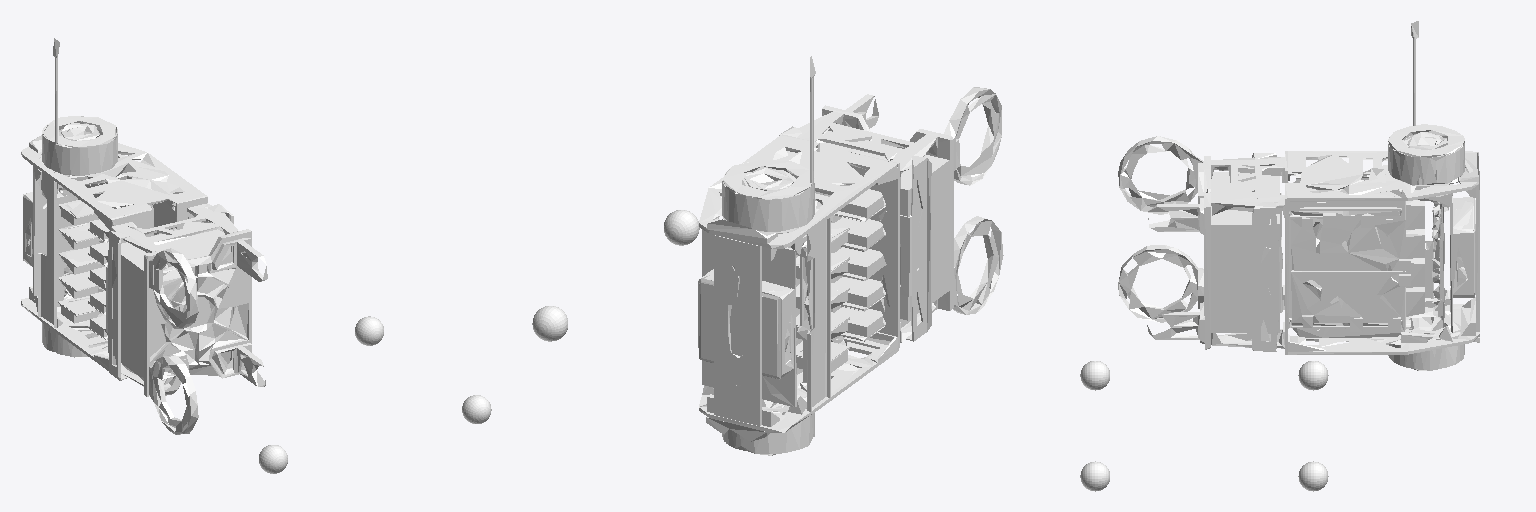
URDF robot description (Lite3):
<?xml version="1.0" encoding="utf-8"?>
<!-- This URDF was automatically created by SolidWorks to URDF Exporter! Originally created by [author] ([email redacted]) 
     Commit Version: 1.6.0-4-g7f85cfe  Build Version: 1.6.7995.38578
     For more information, please see http://wiki.ros.org/sw_urdf_exporter -->
<robot name="Lite3">
  <link name="TORSO">
    <inertial>
      <origin xyz="0 0 0" rpy="0 0 0" />
      <mass value="5.6056" />
      <inertia ixx="0.02456" ixy="0" ixz="0" iyy="0.05518" iyz="0" izz="0.07016" />
    </inertial>
    <visual>
      <origin xyz="0 0 0" rpy="-1.57 0 0" />
      <geometry>
        <mesh filename="../meshes/torso.STL" />
      </geometry>
      <material name="">
        <color rgba="1 1 1 1" />
      </material>
    </visual>
    <collision>
      <origin xyz="0 0 0" rpy="0 0 0" />
      <geometry>
        <mesh filename="../meshes/torso.STL" />
      </geometry>
    </collision>
  </link>

  <!--!!!!!!!!!!!! Front Left Leg !!!!!!!!!!!!!!!!!!!!!!!!!!!!!!!!!!!!-->

  <link name="FL_HIP">
    <inertial>
      <origin xyz="-0.00601 -0.0066532 0.00034295" rpy="0 0 0" />
      <mass value="0.550" />
      <inertia ixx="0.0003949" ixy="0" ixz="0" iyy="0.0004028" iyz="0" izz="0.0004472" />
    </inertial>
    <visual>
      <origin xyz="0 0 0" rpy="-1.57 0 0" />
      <geometry>
        <mesh filename="../meshes/fl_hip.STL" />
      </geometry>
      <material name="">
        <color rgba="1 1 1 1" />
      </material>
    </visual>
    <!-- <collision>
      <origin xyz="0 0 0" rpy="0 0 0" />
      <geometry>
        <mesh filename="../meshes/fl_hip.STL" />
      </geometry>
    </collision> -->
  </link>
  <joint name="FL_HipX_joint"  type="revolute">
    <origin xyz="0.1745 0.062 0" rpy="0 0 0" />
    <parent link="TORSO" />
    <child link="FL_HIP" />
    <axis xyz="-1 0 0" />
    <limit lower="-0.523" upper="0.523" effort="30" velocity="20" />
  </joint>
  <link name="FL_THIGH">
    <inertial>
      <origin xyz="-0.0052817 -0.014632 -0.042672" rpy="0 0 0" />
      <mass value="0.86" />
      <inertia ixx="0.005736" ixy="0" ixz="0" iyy="0.004960" iyz="0" izz="0.001436" />
    </inertial>
    <visual>
      <origin xyz="0 0 0" rpy="-1.57 0 0" />
      <geometry>
        <mesh filename="../meshes/fl_thigh.STL" />
      </geometry>
      <material name="">
        <color rgba="1 1 1 1" />
      </material>
    </visual>
    <collision>
      <!-- <origin xyz="0 0 0" rpy="0 0 0" /> -->
      <origin xyz="0 0 -0.08"/>
      <geometry>
        <!-- <mesh filename="../meshes/fl_thigh.STL" /> -->
        <box size="0.02 0.02 0.16"/>
      </geometry>
    </collision>
  </link>
  <joint name="FL_HipY_joint" type="revolute">
    <origin xyz="0 0.09735 0" rpy="0 0 0" />
    <parent link="FL_HIP" />
    <child link="FL_THIGH" />
    <axis xyz="0 -1 0" />
    <limit lower="-2.67" upper="0.314" effort="30" velocity="20" />
  </joint>
  <link name="FL_SHANK">
    <inertial>
      <origin xyz="0.0064794 -1.4535E-06 -0.12157" rpy="0 0 0" />
      <mass value="0.153" />
      <inertia ixx="0.00089039" ixy="0"  ixz="0"  iyy="0.00090672" iyz="0" izz="3.1266E-05" />
    </inertial>
    <visual>
      <origin xyz="0 0 0" rpy="-1.57 0 0" />
      <geometry>
        <mesh filename="../meshes/fl_shank_collision.STL" />
      </geometry>
      <material name="">
        <color rgba="1 1 1 1" />
      </material>
    </visual>
    <collision>
      <!-- <origin xyz="0 0 0" rpy="0 0 0" /> -->
      <origin xyz="0 0 -0.09"/>
      <geometry>
        <!-- <mesh filename="../meshes/fl_shank_collision.STL" /> -->
        <box size="0.02 0.02 0.18"/>
      </geometry>
    </collision>
  </link>
  <joint name="FL_Knee_joint" type="revolute">
    <origin xyz="0 0 -0.20" rpy="0 0 0" />
    <parent link="FL_THIGH" />
    <child link="FL_SHANK" />
    <axis xyz="0 -1 0" />
    <limit lower="0.524" upper="2.792" effort="30" velocity="20" />
  </joint>

   <link name="FL_FOOT">
    <contact>
      <friction_anchor/>
      <stiffness value="30000.0"/>
      <damping value="1000.0"/>
      <spinning_friction value="0.3"/>
      <lateral_friction value="1.0"/>
    </contact>
    <collision>
      <origin rpy="1.57079632679 0 0" xyz="0 0 0"/>
      <geometry>
        <sphere radius="0.022" />
      </geometry>
    </collision>
    <visual>
      <origin xyz="0 0 0" rpy="-1.57 0 0" />
      <geometry>
        <sphere radius="0.022" />
      </geometry>
      <material name="">
        <color rgba="1 1 1 1" />
      </material>
    </visual>
    <inertial>
      <mass value="0.02"/>
      <inertia ixx="0" ixy="0" ixz="0" iyy="0" iyz="0" izz="0"/>
    </inertial>
  </link>

  <joint name="FL_Ankle" type="fixed" dont_collapse="true">
    <parent link="FL_SHANK"/>
    <child link="FL_FOOT"/>
    <origin xyz="0 0 -0.21012"/>
     
  </joint>

  <!--!!!!!!!!!!!! Front Right Leg !!!!!!!!!!!!!!!!!!!!!!!!!!!!!!!!!!!!-->
  <link name="FR_HIP">
    <inertial>
      <origin xyz="-0.010579 0.011358 0.00048546" rpy="0 0 0" />
      <mass value="0.550" />
      <inertia ixx="0.0004472" ixy="0" ixz="0" iyy="0.0004028" iyz="0" izz="0.0003949" />
    </inertial>
    <visual>
      <origin xyz="0 0 0" rpy="-1.57 0 0" />
      <geometry>
        <mesh filename="../meshes/fr_hip.STL" />
      </geometry>
      <material name="">
        <color rgba="1 1 1 1" />
      </material>
    </visual>
    <!-- <collision>
      <origin xyz="0 0 0" rpy="0 0 0" />
      <geometry>
        <mesh filename="../meshes/fr_hip.STL" />
      </geometry>
    </collision> -->
  </link>
  <joint name="FR_HipX_joint"
    type="revolute">
    <origin xyz="0.1745 -0.062 0" rpy="0 0 0" />
    <parent link="TORSO" />
    <child link="FR_HIP" />
    <axis xyz="-1 0 0" />
    <limit lower="-0.523" upper="0.523" effort="30" velocity="20" />
  </joint>
  <link name="FR_THIGH">
    <inertial>
      <origin xyz="-0.0039245 0.025256 -0.025146" rpy="0 0 0" />
      <mass value="0.86"/>
      <!-- inertia ixx="0.00433" ixy="0.00001" ixz="0.00034" iyy="0.00403"  iyz="-0.0000186" izz="0.00143" -->
      <inertia ixx="0.005736" ixy="0" ixz="0" iyy="0.004960" iyz="0" izz="0.001436" />
    </inertial>
    <visual>
      <origin xyz="0 0 0" rpy="-1.57 0 0" />
      <geometry>
        <mesh filename="../meshes/fr_thigh.STL" />
      </geometry>
      <material name="">
        <color rgba="1 1 1 1" />
      </material>
    </visual>
    <collision>
      <!-- <origin xyz="0 0 0" rpy="0 0 0" /> -->
      <origin xyz="0 0 -0.08"/>
      <geometry>
        <!-- <mesh filename="../meshes/fr_thigh.STL" /> -->
        <box size="0.02 0.02 0.16"/>
      </geometry>
    </collision>
  </link>
  <joint name="FR_HipY_joint" type="revolute">
    <origin xyz="0 -0.09735 0" rpy="0 0 0" />
    <parent link="FR_HIP" />
    <child link="FR_THIGH" />
    <axis xyz="0 -1 0" />
    <limit lower="-2.67" upper="0.314" effort="30" velocity="20" />
  </joint>
  <link name="FR_SHANK">
    <inertial>
      <origin xyz="0.0064794 -1.4552E-06 -0.12157" rpy="0 0 0" />
      <mass value="0.153" />
      <inertia ixx="0.00089039" ixy="0"  ixz="0"  iyy="0.00090672" iyz="0" izz="3.1266E-05" />
    </inertial>
    <visual>
      <origin xyz="0 0 0" rpy="-1.57 0 0" />
      <geometry>
        <mesh filename="../meshes/fr_shank_collision.STL" />
      </geometry>
      <material name="">
        <color rgba="1 1 1 1" />
      </material>
    </visual>
    <collision>
      <!-- <origin xyz="0 0 0" rpy="0 0 0" /> -->
      <origin xyz="0 0 -0.09"/>
      <geometry>
        <!-- <mesh filename="../meshes/fr_shank_collision.STL" /> -->
        <box size="0.02 0.02 0.18"/>
      </geometry>
    </collision>
  </link>
  <joint name="FR_Knee_joint" type="revolute">
    <origin xyz="0 0 -0.20" rpy="0 0 0" />
    <parent link="FR_THIGH" />
    <child link="FR_SHANK" />
    <axis xyz="0 -1 0" />
    <limit lower="0.524" upper="2.792" effort="30" velocity="20" />
  </joint>

    <link name="FR_FOOT">
    <contact>
      <friction_anchor/>
      <stiffness value="30000.0"/>
      <damping value="1000.0"/>
      <spinning_friction value="0.3"/>
      <lateral_friction value="1.0"/>
    </contact>
    <collision>
      <origin rpy="1.57079632679 0 0" xyz="0 0 0"/>
      <geometry>
        <sphere radius="0.022" />
      </geometry>
    </collision>
     <visual>
      <origin xyz="0 0 0" rpy="-1.57 0 0" />
      <geometry>
        <sphere radius="0.022" />
      </geometry>
      <material name="">
        <color rgba="1 1 1 1" />
      </material>
    </visual>
    <inertial>
      <mass value="0.02"/>
      <inertia ixx="0" ixy="0" ixz="0" iyy="0" iyz="0" izz="0"/>
    </inertial>
  </link>

  <joint name="FR_Ankle" type="fixed" dont_collapse="true">
    <parent link="FR_SHANK"/>
    <child link="FR_FOOT"/>
    <origin xyz="0 0 -0.21012"/>
     
  </joint>

  <!--!!!!!!!!!!!! Back Left Leg !!!!!!!!!!!!!!!!!!!!!!!!!!!!!!!!!!!!-->
   <link name="HL_HIP">
    <inertial>
      <origin xyz="0.010905 -0.012636 0.001051" rpy="0 0 0" />
      <mass value="0.550" />
      <inertia ixx="0.0003949" ixy="0" ixz="0" iyy="0.0004028" iyz="0" izz="0.0004472" />
    </inertial>
    <visual>
      <origin xyz="0 0 0" rpy="-1.57 0 0" />
      <geometry>
        <mesh filename="../meshes/hl_hip.STL" />
      </geometry>
      <material name="">
        <color rgba="1 1 1 1" />
      </material>
    </visual>
    <!-- <collision>
      <origin xyz="0 0 0" rpy="0 0 0" />
      <geometry>
        <mesh filename="../meshes/hl_hip.STL" />
      </geometry>
    </collision> -->
  </link>
  <joint name="HL_HipX_joint" type="revolute">
    <origin xyz="-0.1745 0.062 0" rpy="0 0 0" />
    <parent link="TORSO" />
    <child link="HL_HIP" />
    <axis xyz="-1 0 0" />
    <limit lower="-0.523" upper="0.523" effort="30" velocity="20" />
  </joint>
  <link name="HL_THIGH">
    <inertial>
      <origin xyz="-0.0057137 -0.014631 -0.042453" rpy="0 0 0" />
      <mass value="0.86" />
      <inertia ixx="0.005736" ixy="0" ixz="0" iyy="0.004960" iyz="0" izz="0.001436" />
    </inertial>
    <visual>
      <origin xyz="0 0 0" rpy="-1.57 0 0" />
      <geometry>
        <mesh filename="../meshes/hl_thigh.STL" />
      </geometry>
      <material name="">
        <color rgba="1 1 1 1" />
      </material>
    </visual>
    <collision>
      <!-- <origin xyz="0 0 0" rpy="0 0 0" /> -->
      <origin xyz="0 0 -0.08"/>
      <geometry>
        <!-- <mesh filename="../meshes/hl_thigh.STL" /> -->
        <box size="0.02 0.02 0.16"/>
      </geometry>
    </collision>
  </link>
  <joint name="HL_HipY_joint" type="revolute">
    <origin xyz="0 0.09735 0" rpy="0 0 0" />
    <parent link="HL_HIP" />
    <child link="HL_THIGH" />
    <axis xyz="0 -1 0" />
    <limit lower="-2.67" upper="0.314" effort="30" velocity="20" />
  </joint>
  <link name="HL_SHANK">
    <inertial>
      <origin xyz="0.0064794 -1.4558E-06 -0.12157" rpy="0 0 0" />
      <mass value="0.153" />
      <inertia ixx="0.00089039" ixy="0"  ixz="0"  iyy="0.00090672" iyz="0" izz="3.1266E-05" />
    </inertial>
    <visual>
      <origin xyz="0 0 0" rpy="-1.57 0 0" />
      <geometry>
        <mesh filename="../meshes/hl_shank_collision.STL" />
      </geometry>
      <material name="">
        <color rgba="1 1 1 1" />
      </material>
    </visual>
    <collision>
      <!-- <origin xyz="0 0 0" rpy="0 0 0" /> -->
      <origin xyz="0 0 -0.09"/>
      <geometry>
        <!-- <mesh filename="../meshes/hl_shank_collision.STL" /> -->
        <box size="0.02 0.02 0.18"/>
      </geometry>
    </collision>
  </link>
  <joint name="HL_Knee_joint" type="revolute">
    <origin xyz="0 0 -0.20" rpy="0 0 0" />
    <parent link="HL_THIGH" />
    <child link="HL_SHANK" />
    <axis xyz="0 -1 0" />
    <limit lower="0.524" upper="2.792" effort="30" velocity="20" />
  </joint>

  <link name="HL_FOOT">
    <contact>
      <friction_anchor/>
      <stiffness value="30000.0"/>
      <damping value="1000.0"/>
      <spinning_friction value="0.3"/>
      <lateral_friction value="1.0"/>
    </contact>
    <collision>
      <origin rpy="1.57079632679 0 0" xyz="0 0 0"/>
      <geometry>
        <sphere radius="0.022" />
      </geometry>
    </collision>
    <visual>
      <origin xyz="0 0 0" rpy="-1.57 0 0" />
      <geometry>
        <sphere radius="0.022" />
      </geometry>
      <material name="">
        <color rgba="1 1 1 1" />
      </material>
    </visual>
    <inertial>
      <mass value="0.02"/>
      <inertia ixx="0" ixy="0" ixz="0" iyy="0" iyz="0" izz="0"/>
    </inertial>
  </link>

  <joint name="HL_Ankle" type="fixed" dont_collapse="true">
    <parent link="HL_SHANK"/>
    <child link="HL_FOOT"/>
    <origin xyz="0 0 -0.21012"/>
     
  </joint>
  <!--!!!!!!!!!!!! Back Right Leg !!!!!!!!!!!!!!!!!!!!!!!!!!!!!!!!!!!!-->

  <link name="HR_HIP">
    <inertial>
      <origin xyz="0.010354 0.011423 0.00049498" rpy="0 0 0" />
      <mass value="0.550" />
      <inertia ixx="0.0003949" ixy="0" ixz="0" iyy="0.0004028" iyz="0" izz="0.0004472" />
    </inertial>
    <visual>
      <origin xyz="0 0 0" rpy="-1.57 0 0" />
      <geometry>
        <mesh filename="../meshes/hr_hip.STL" />
      </geometry>
      <material name="">
        <color rgba="1 1 1 1" />
      </material>
    </visual>
    <!-- <collision>
      <origin xyz="0 0 0" rpy="0 0 0" />
      <geometry>
        <mesh filename="../meshes/hr_hip.STL" />
      </geometry>
    </collision> -->
  </link>
  <joint name="HR_HipX_joint" type="revolute">
    <origin xyz="-0.1745 -0.062 0" rpy="0 0 0" />
    <parent link="TORSO" />
    <child link="HR_HIP" />
    <axis xyz="-1 0 0" />
    <limit lower="-0.523" upper="0.523" effort="30" velocity="20" />
  </joint>
  <link name="HR_THIGH">
    <inertial>
      <origin xyz="-0.0031903 0.02526 -0.025617" rpy="0 0 0" />
      <mass value="0.86"/>
      <inertia ixx="0.005736" ixy="0" ixz="0" iyy="0.004960" iyz="0" izz="0.001436" />
    </inertial>
    <visual>
      <origin xyz="0 0 0" rpy="-1.57 0 0" />
      <geometry>
        <mesh filename="../meshes/hr_thigh.STL" />
      </geometry>
      <material name="">
        <color rgba="1 1 1 1" />
      </material>
    </visual>
    <collision>
      <!-- <origin xyz="0 0 0" rpy="0 0 0" /> -->
      <origin xyz="0 0 -0.08"/>
      <geometry>
        <!-- <mesh filename="../meshes/hr_thigh.STL" /> -->
        <box size="0.02 0.02 0.16"/>
      </geometry>
    </collision>
  </link>
  <joint name="HR_HipY_joint" type="revolute">
    <origin xyz="0 -0.09735 0" rpy="0 0 0" />
    <parent link="HR_HIP" />
    <child link="HR_THIGH" />
    <axis xyz="0 -1 0" />
    <limit lower="-2.67" upper="0.314" effort="30" velocity="20" />
  </joint>
  <link name="HR_SHANK">
    <inertial>
      <origin xyz="0.0064794 -1.4529E-06 -0.12157" rpy="0 0 0" />
      <mass value="0.153" />
      <inertia ixx="0.00089039" ixy="0"  ixz="0"  iyy="0.00090672" iyz="0" izz="3.1266E-05" />
    </inertial>
    <visual>
      <origin xyz="0 0 0" rpy="-1.57 0 0" />
      <geometry>
        <mesh filename="../meshes/hr_shank_collision.STL" />
      </geometry>
      <material name="">
        <color rgba="1 1 1 1" />
      </material>
    </visual>
    <collision>
      <!-- <origin xyz="0 0 0" rpy="0 0 0" /> -->
      <origin xyz="0 0 -0.09"/>
      <geometry>
        <!-- <mesh filename="../meshes/hr_shank_collision.STL" /> -->
        <box size="0.02 0.02 0.18"/>
      </geometry>
    </collision>
  </link>
  <joint name="HR_Knee_joint" type="revolute">
    <origin xyz="0 0 -0.20" rpy="0 0 0" />
    <parent link="HR_THIGH" />
    <child link="HR_SHANK" />
    <axis xyz="0 -1 0" />
    <limit lower="0.524" upper="2.792" effort="30" velocity="20" />
  </joint>

  <link name="HR_FOOT">
    <contact>
      <friction_anchor/>
      <stiffness value="30000.0"/>
      <damping value="1000.0"/>
      <spinning_friction value="0.3"/>
      <lateral_friction value="1.0"/>
    </contact>
    <collision>
      <origin rpy="1.57079632679 0 0" xyz="0 0 0"/>
      <geometry>
        <sphere radius="0.022" />
      </geometry>
    </collision>
      <visual>
      <origin xyz="0 0 0" rpy="-1.57 0 0" />
      <geometry>
        <sphere radius="0.022" />
      </geometry>
      <material name="">
        <color rgba="1 1 1 1" />
      </material>
    </visual>
    <inertial>
      <mass value="0.02"/>
      <inertia ixx="0" ixy="0" ixz="0" iyy="0" iyz="0" izz="0"/>
    </inertial>
  </link>

  <joint name="HR_Ankle" type="fixed" dont_collapse="true">
    <parent link="HR_SHANK"/>
    <child link="HR_FOOT"/>
    <origin xyz="0 0 -0.21012"/>
     
  </joint>

</robot>

--- What the picture shows (computed from the rendered views, not written in the file) ---
3 views of the same robot in one strip: view 1: azimuth 30°, elevation 25°; view 2: azimuth 150°, elevation 25°; view 3: azimuth 270°, elevation 25° (orthographic).
Robot: Lite3 — 17 links, 16 joints (12 revolute, 4 fixed); root link TORSO; default pose: joints at zero except 4 at the middle of their limits (FL_Knee_joint = 1.66, FR_Knee_joint = 1.66, HL_Knee_joint = 1.66, HR_Knee_joint = 1.66).
Links seen in each view (by area): view 1: TORSO, FL_FOOT, FR_FOOT, HR_FOOT; view 2: TORSO, FR_FOOT, FL_FOOT; view 3: TORSO, FR_FOOT, HL_FOOT, HR_FOOT, FL_FOOT.
Boxes of the visible links, x1=… form: TORSO: x1=21, y1=38, x2=267, y2=434; FL_FOOT: x1=355, y1=316, x2=383, y2=345; FR_FOOT: x1=462, y1=395, x2=491, y2=423; HR_FOOT: x1=259, y1=445, x2=287, y2=473; TORSO: x1=698, y1=56, x2=1003, y2=455; FR_FOOT: x1=664, y1=210, x2=699, y2=245; FL_FOOT: x1=532, y1=306, x2=567, y2=341; TORSO: x1=1118, y1=21, x2=1479, y2=370; FR_FOOT: x1=1080, y1=461, x2=1109, y2=491; HL_FOOT: x1=1298, y1=361, x2=1328, y2=390; HR_FOOT: x1=1080, y1=361, x2=1109, y2=390; FL_FOOT: x1=1298, y1=461, x2=1328, y2=491.
Size in the robot's own frame: 0.5052 by 0.5835 by 0.546 metres.
Meshes: 13 distinct files referenced, 1 mesh visuals loaded (1 binary STL); not drawn: 12 (reference not matched to a file when rendering).